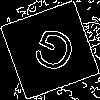G: (25, 25, 80, 84)
